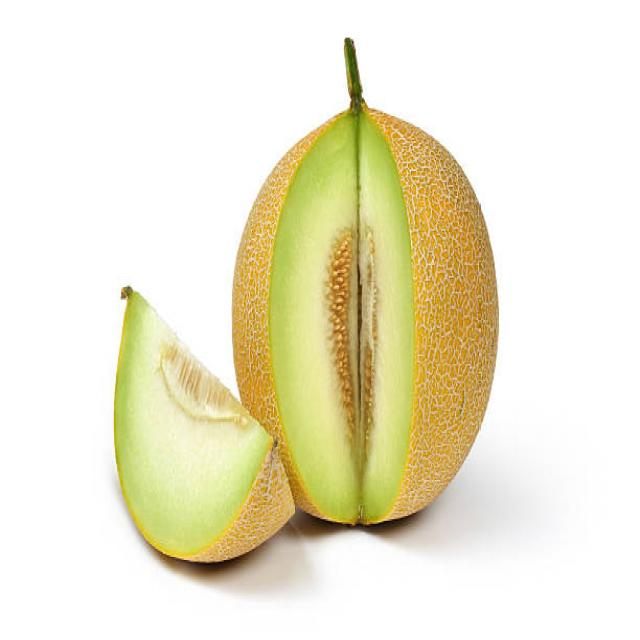Melon: (270, 83, 504, 532), (113, 294, 235, 564)
